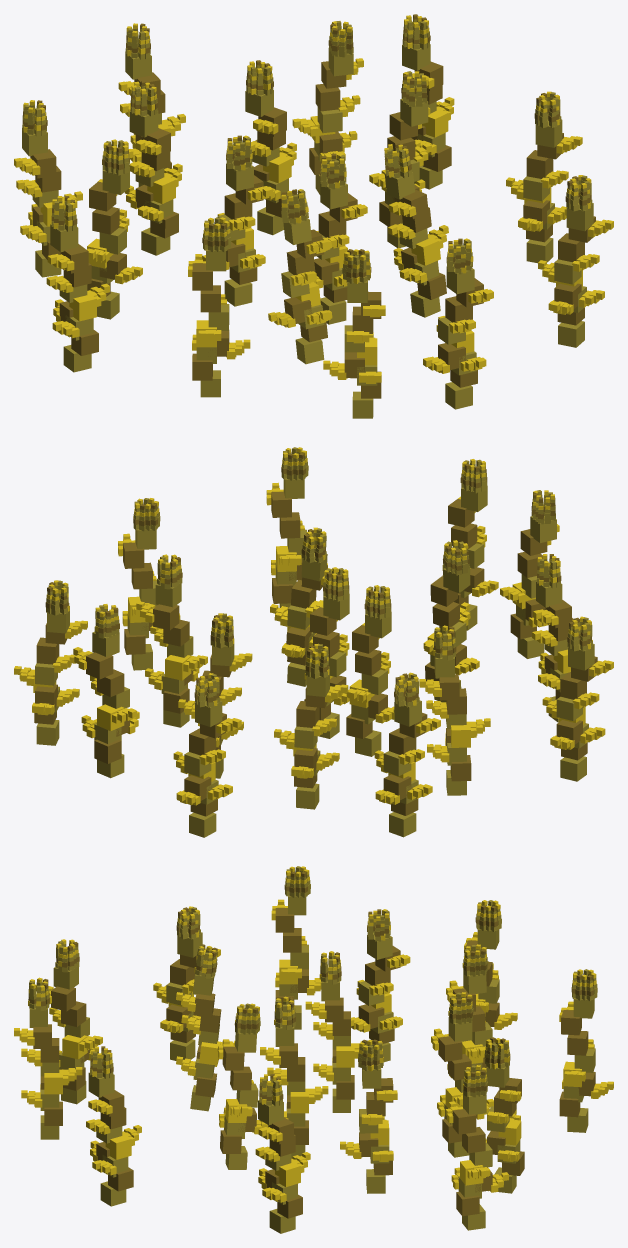
File: ripe_wheat.gltf
3 views of the same model, one above another, from view 1: azimuth 30°, elevation 25°; view 2: azimuth 150°, elevation 25°; view 3: azimuth 270°, elevation 25° (orthographic). The views are drawn at different scales.
Visible parts, largest first — view 1: Cube.001, Cube.006, Cube.005, Cube.015, Cube.014, Cube.010, Cube.013, Cube.008, Cube.007, Cube.009, Cube.016, Cube.011 (+6 smaller); view 2: Cube.017, Cube.002, Cube.004, Cube.003, Cube.016, Cube.006, Cube.005, Cube.007, Cube.012, Cube.009, Cube.013, Cube.001 (+6 smaller); view 3: Cube.014, Cube.013, Cube.012, Cube.003, Cube.001, Cube.015, Cube.007, Cube.009, Cube.002, Cube.010, Cube.016, Cube.017 (+6 smaller).
Part boxes in pixels (x1,y1,x2,y2): Cube.001: (384,143,448,317); Cube.006: (46,195,109,372); Cube.005: (124,80,182,255); Cube.015: (423,238,493,409); Cube.014: (538,175,613,347); Cube.010: (268,189,332,364); Cube.013: (506,91,582,263); Cube.008: (188,217,250,397); Cube.007: (87,139,142,319); Cube.009: (323,249,385,418); Cube.016: (202,135,273,306); Cube.011: (245,60,296,235); Cube.017: (73,604,139,778); Cube.002: (136,554,207,727); Cube.004: (374,672,440,837); Cube.003: (173,673,241,837); Cube.016: (346,585,394,756); Cube.006: (542,616,613,781); Cube.005: (274,643,348,809); Cube.007: (419,625,490,795); Cube.012: (14,580,87,745); Cube.009: (500,490,560,658); Cube.013: (118,498,180,670); Cube.001: (270,527,338,686); Cube.014: (86,1046,141,1206); Cube.013: (255,1073,310,1233); Cube.012: (445,1065,508,1230); Cube.003: (559,969,613,1132); Cube.001: (217,1003,268,1169); Cube.015: (14,977,82,1139); Cube.007: (351,909,410,1062); Cube.009: (36,939,102,1104); Cube.002: (340,1039,397,1193); Cube.010: (176,946,234,1111); Cube.016: (305,951,372,1112); Cube.017: (484,1037,524,1193).
Bounding box in the file's own units: 1.48 × 0.4976 × 1.62.
